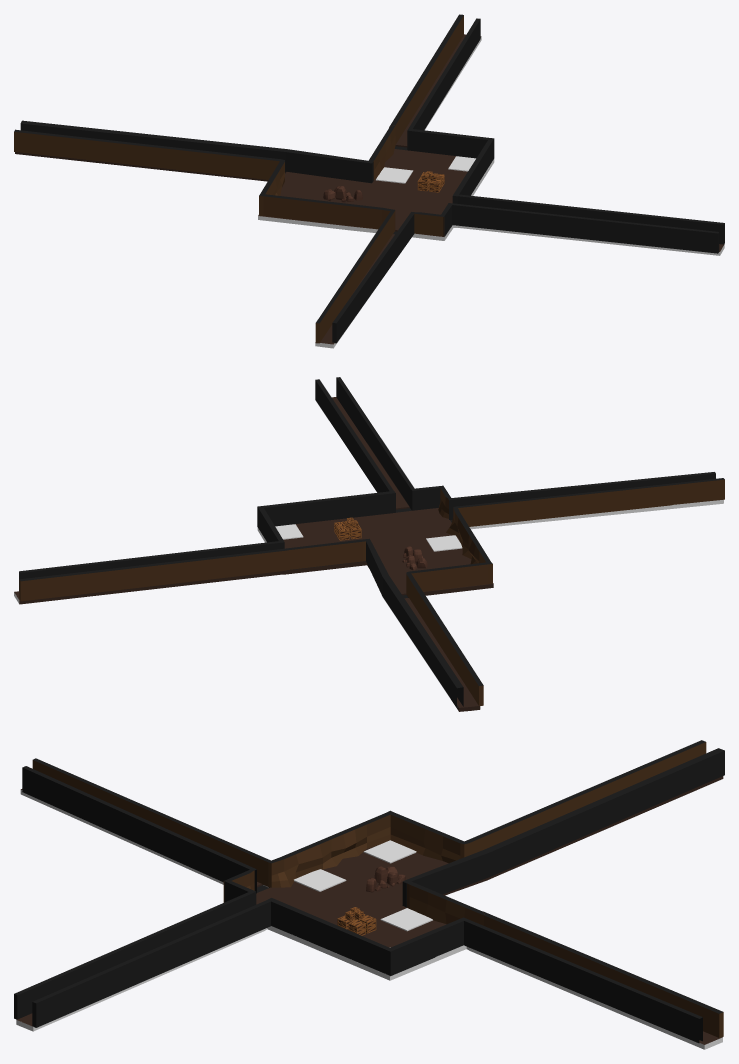
File: sala6DET.fbx
The picture shows the model from 3 angles, top to bottom: view 1: azimuth 30°, elevation 25°; view 2: azimuth 150°, elevation 25°; view 3: azimuth 270°, elevation 25°; orthographic projection. The views are drawn at different scales.
Visible parts, largest first — view 1: paredes_der_abajo6, paredes_izq_arriba6, suelo6, conjunto_trampas; view 2: paredes_izq_arriba6, paredes_der_abajo6, suelo6, conjunto_trampas; view 3: paredes_der_abajo6, paredes_izq_arriba6, suelo6, conjunto_trampas, conjunto_cajas, conjunto_rocas.
Part boxes in pixels (box(x1,y1,x2,y2)): paredes_der_abajo6: box(20, 18, 724, 343); paredes_izq_arriba6: box(14, 14, 463, 343); suelo6: box(15, 34, 724, 348); conjunto_trampas: box(376, 156, 475, 183); paredes_izq_arriba6: box(19, 478, 724, 705); paredes_der_abajo6: box(19, 377, 715, 708); suelo6: box(14, 397, 723, 711); conjunto_trampas: box(275, 524, 462, 551); paredes_der_abajo6: box(14, 748, 724, 1043); paredes_izq_arriba6: box(32, 740, 723, 1037); suelo6: box(16, 776, 723, 1049); conjunto_trampas: box(294, 840, 432, 947); conjunto_cajas: box(337, 907, 376, 935); conjunto_rocas: box(366, 866, 405, 892).
Bounding box in the file's own units: 10627 × 553 × 11378.
